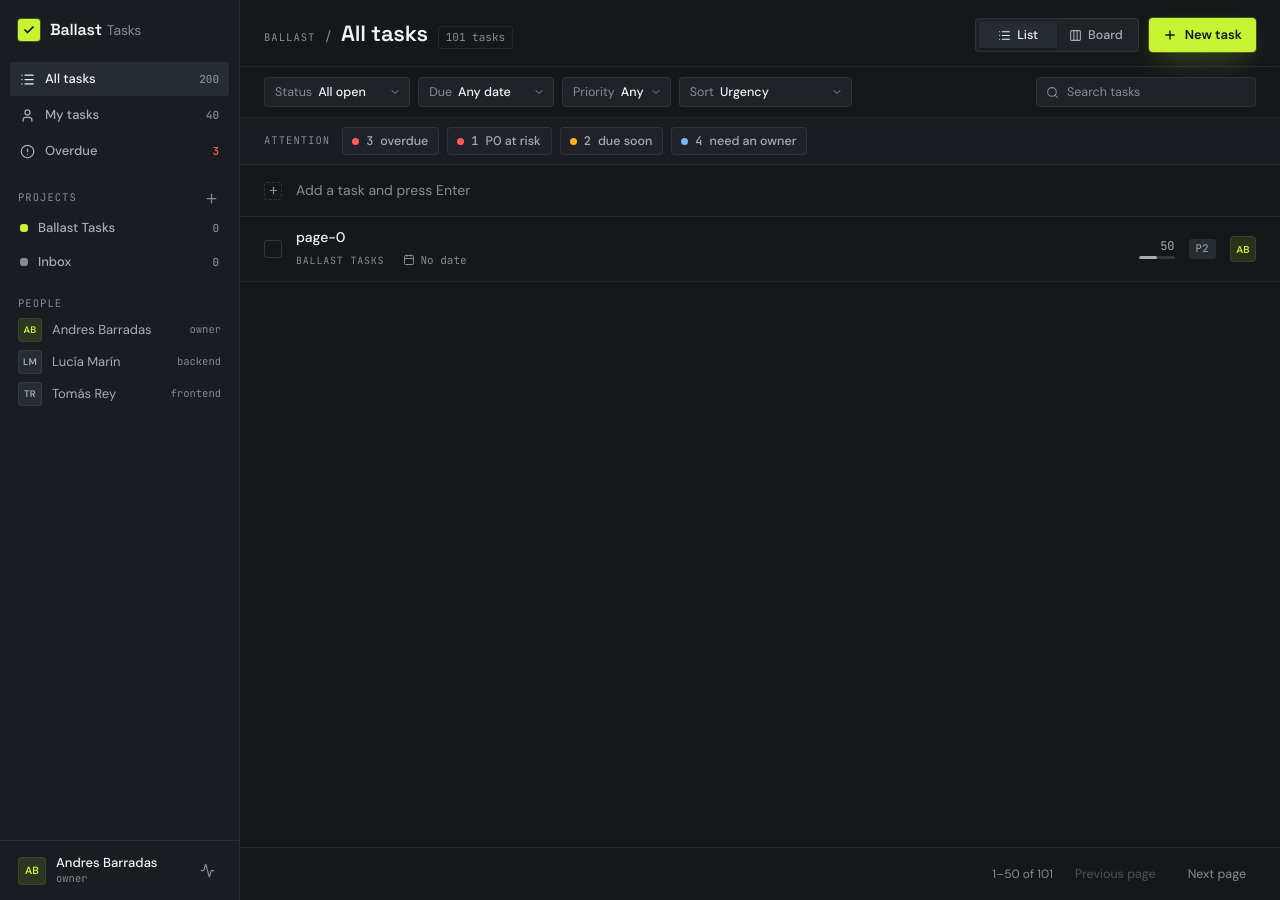
Scenario: server-query workspace › renders server totals and global/project counts, with working page controls
Expected: the text "101 tasks" is shown, left=446, top=29, right=505, bottom=46
Expected: the button "All tasks 200" is shown, left=10, top=62, right=229, bottom=96
Click the button "Next page": (1217, 874) left=1178, top=860, right=1256, bottom=888
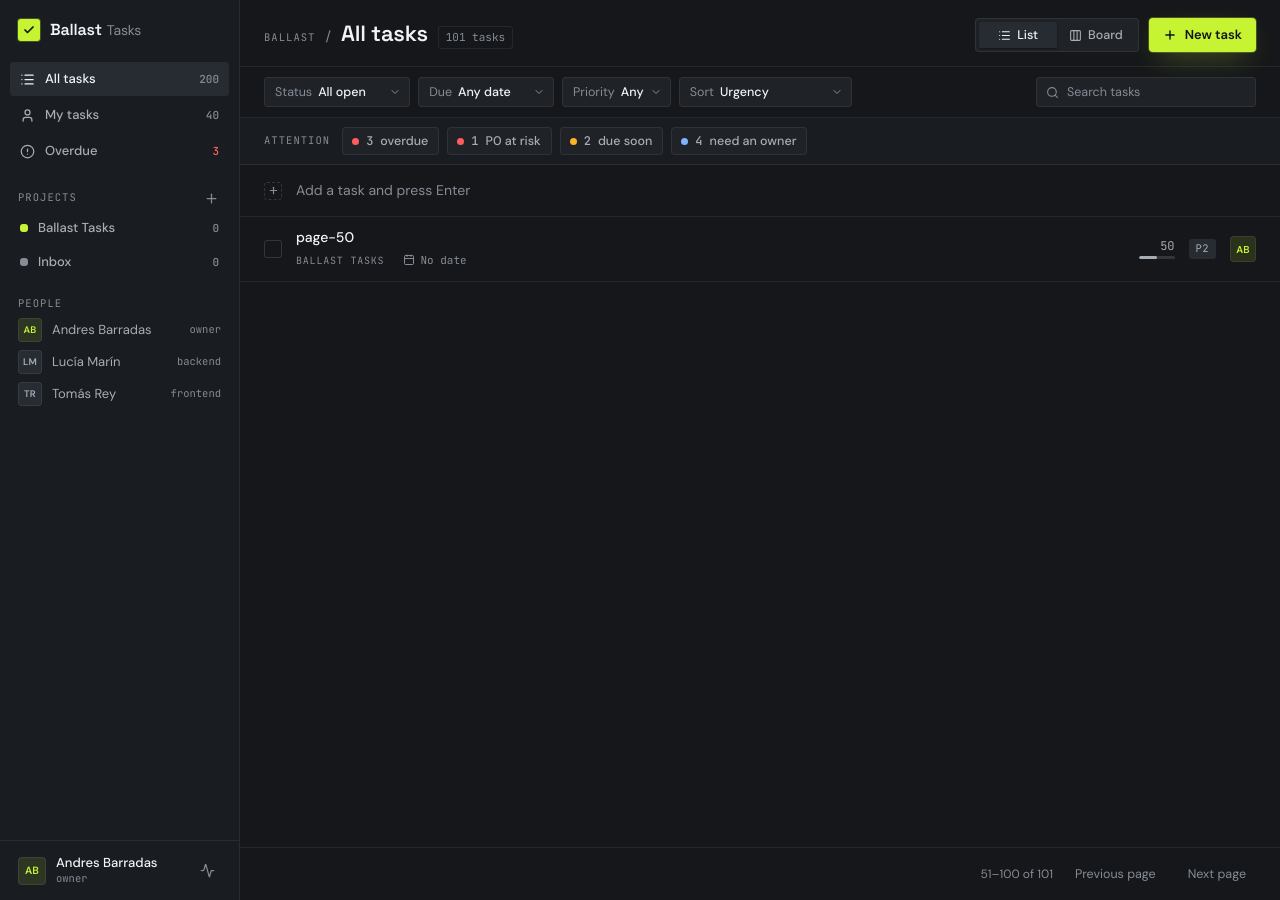
Expected: the button "Previous page" is enabled, left=1065, top=860, right=1166, bottom=888
